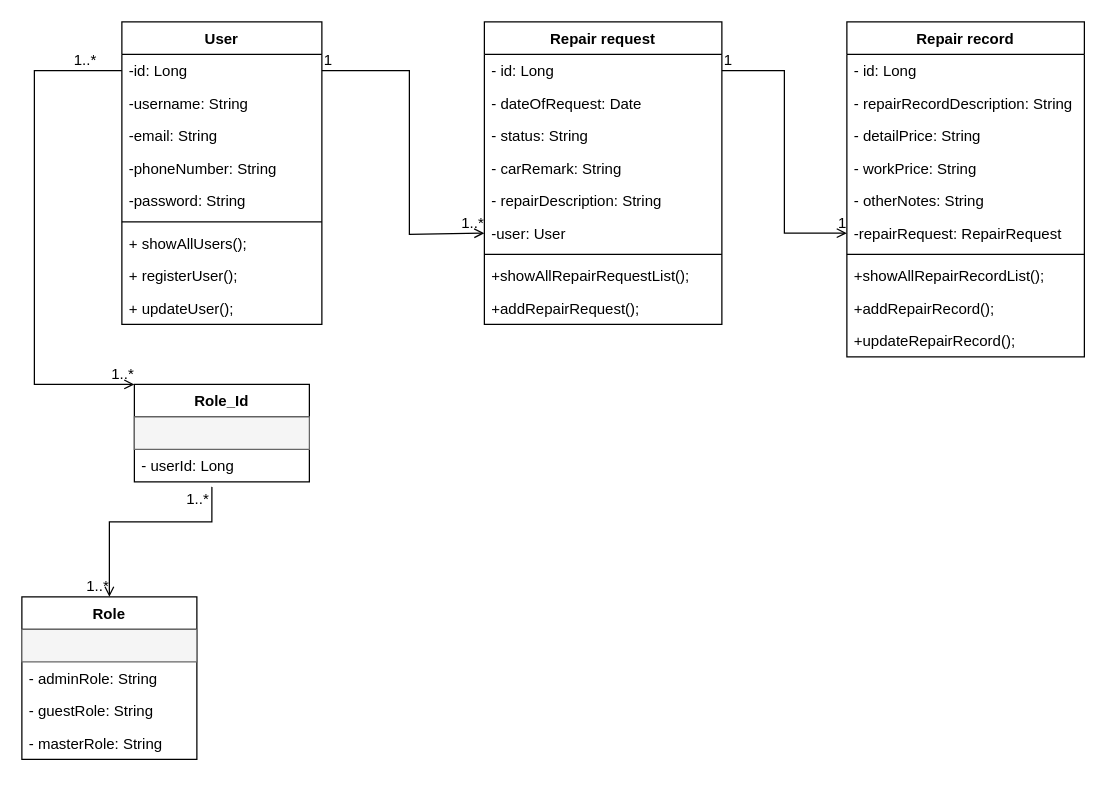
The diagram is 1106 pixels wide and 785 high, and some of its shapes have lost their labels. Each missing label, with the centre of its shape:
- roleId: Long: point (221, 432)
- userRole: String: point (109, 645)
